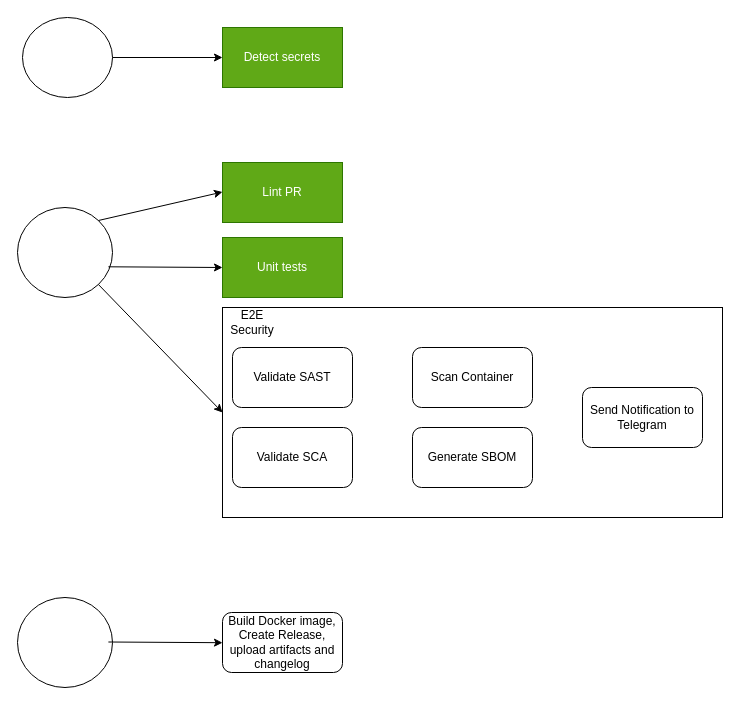
This 740x705 diagram has some shape labels left out. The centre of each missing label's shape, as x and y in pixels:
Merge PR: (x=64, y=642)
Pull request: (x=64, y=252)
Push on branch: (x=67, y=57)
